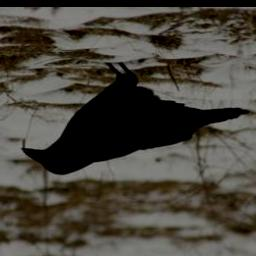Crow: (14, 60, 248, 182)
